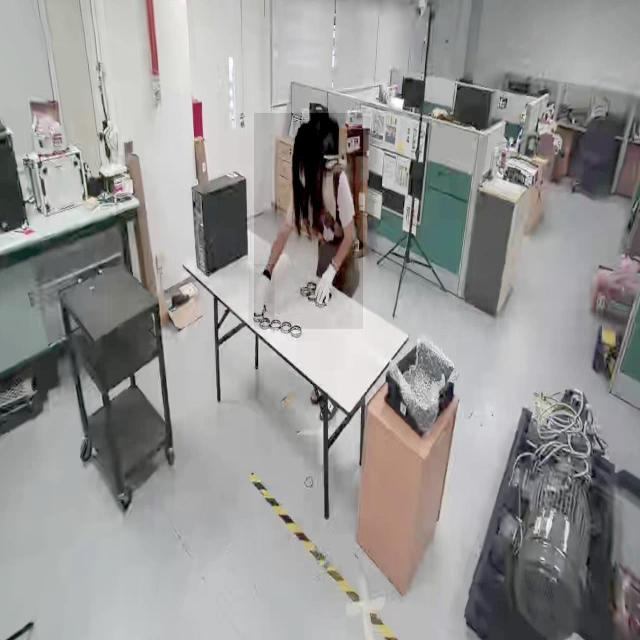hand_glove: (311, 250, 341, 316), (249, 264, 275, 327)
head_nohelmet: (294, 121, 316, 156)
person: (254, 113, 364, 330)
